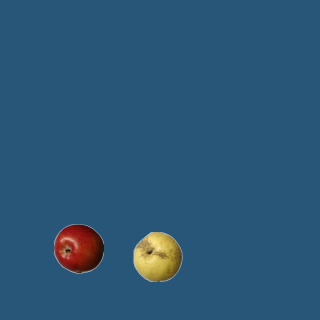Apple Braeburn: (53, 223, 103, 273)
Apple Golden 1: (132, 231, 182, 281)
